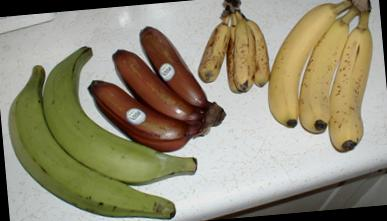Banana Overripe: (193, 2, 287, 98)
Banana Ripe: (276, 0, 387, 150)
Banana Rotten: (84, 34, 238, 158)
Banana Unripe: (0, 48, 101, 221)
